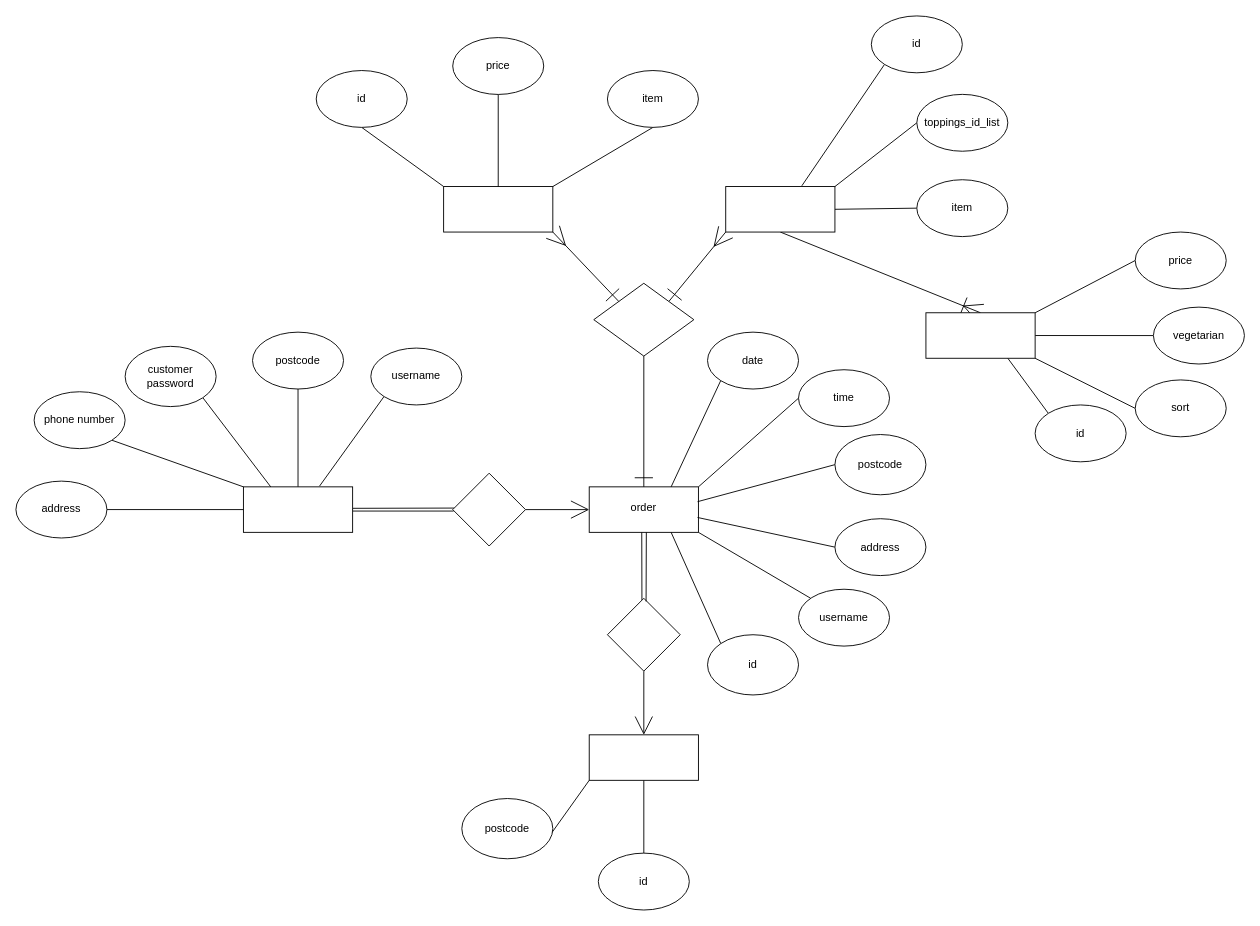
Image size: 1260x926. Some labels were removed from this diagram. The shapes that lost their labels are listed below. From the top down, each one's centre as x and y in pixels, then its label:
At [498,209]: "desert_drinks".
At [780,209]: "pizza".
At [643,319]: "joins".
At [980,335]: "toppings".
At [298,509]: "customer".
At [489,509]: "creates".
At [643,634]: "gives".
At [643,757]: "Delivery drive".
